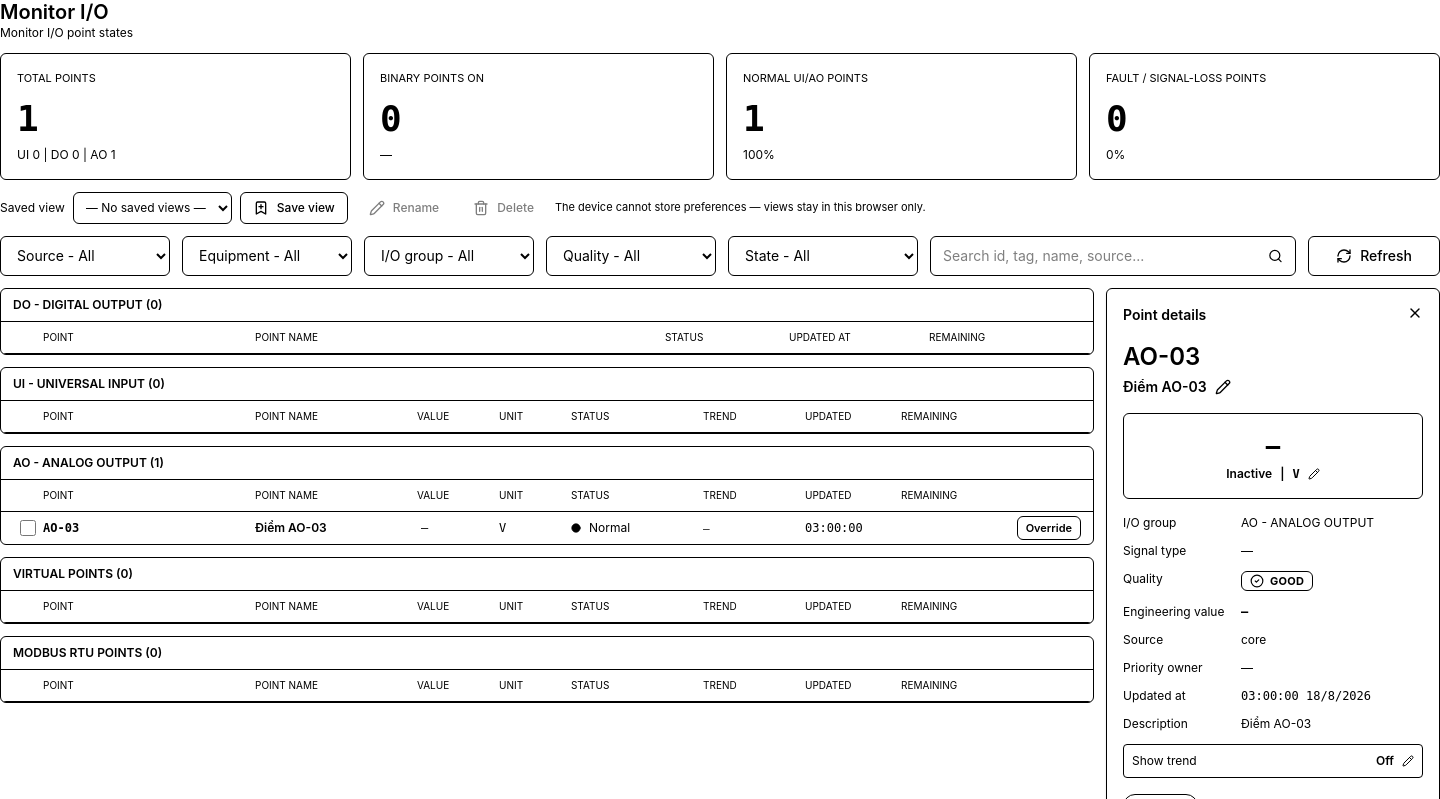
F-UX-09 — điểm chưa có số đo không được điền sẵn chuỗi "null" › ô Giá trị mới của hộp thoại ép tay để TRỐNG
Click the button "Override" at (1049, 528), box [1017,516,1081,540]
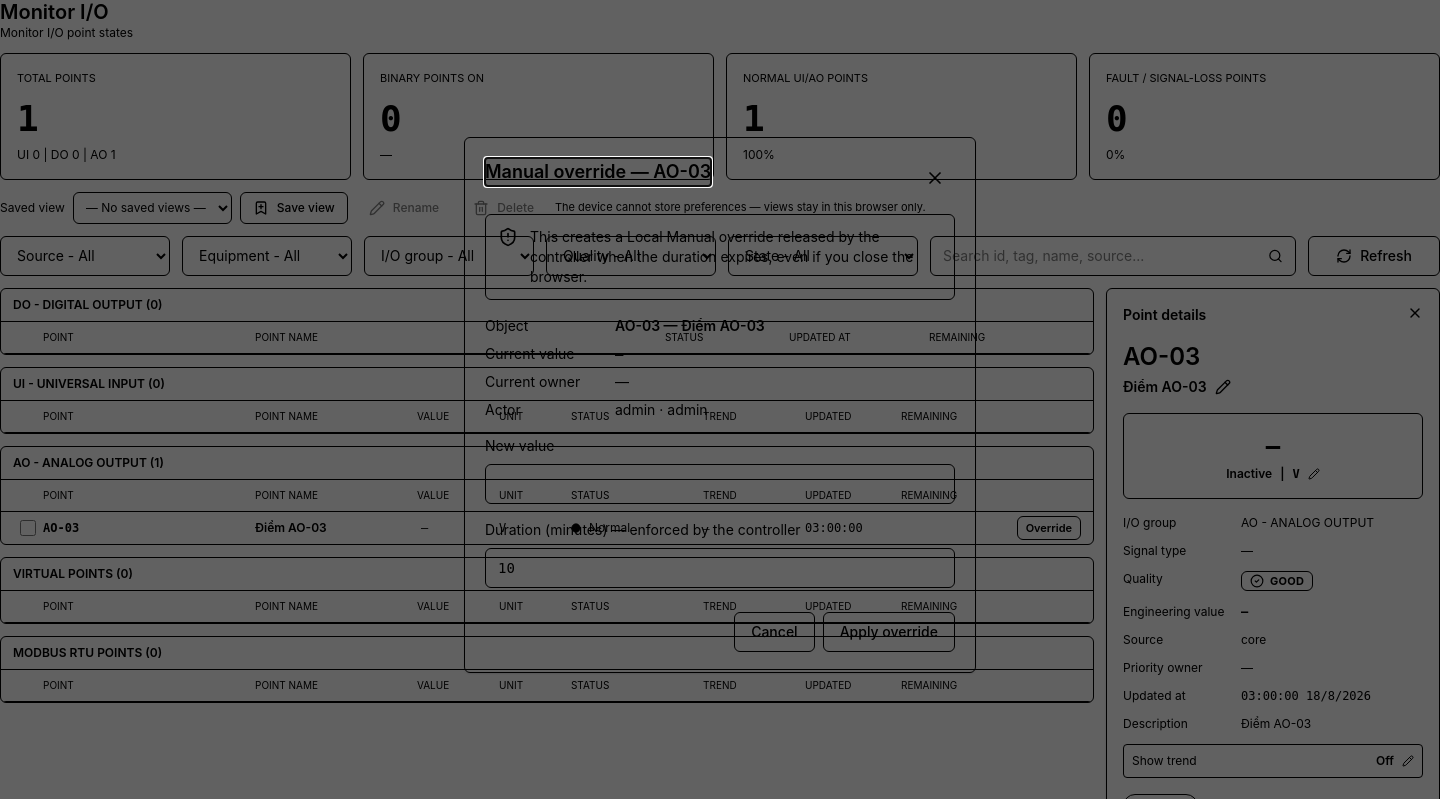
Check: the field labelled "New value" is empty, box [485,464,955,504]
Check: the field labelled "New value" does not hold "null", box [485,464,955,504]
